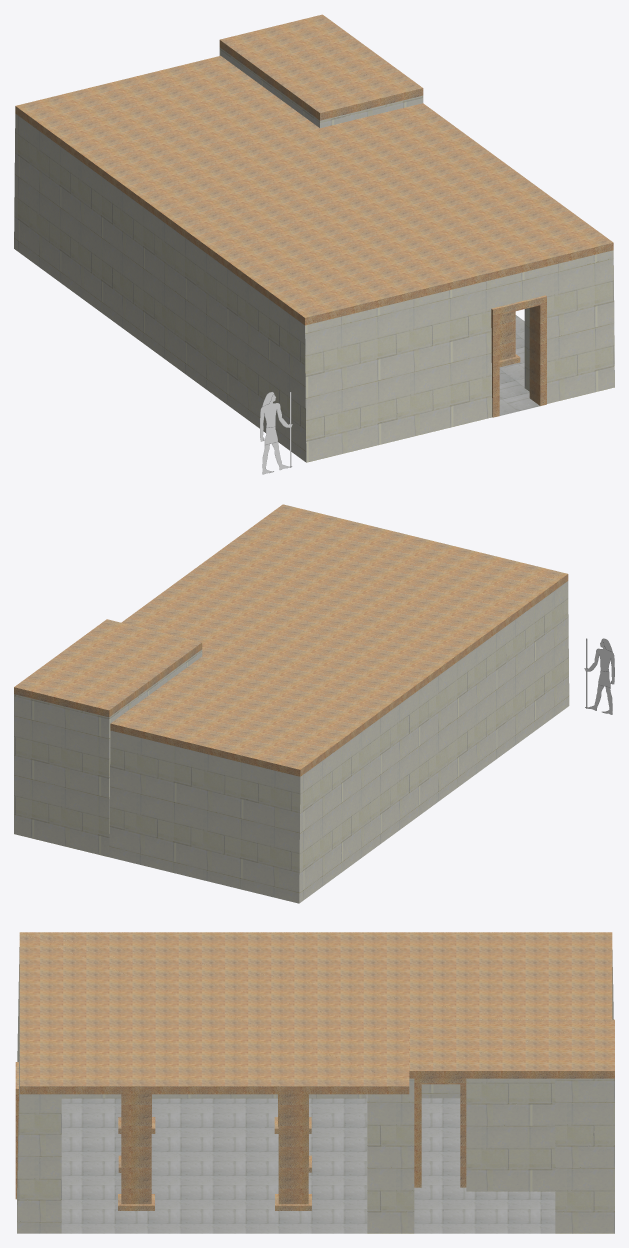
The model's file is Hetep.obj.
3 views of the same model, one above another, from view 1: azimuth 30°, elevation 25°; view 2: azimuth 150°, elevation 25°; view 3: azimuth 270°, elevation 25° (orthographic). The views are drawn at different scales.
Visible parts, largest first — view 1: Mesh1 Model, Mesh2 Model; view 2: Mesh1 Model, Mesh2 Model; view 3: Mesh1 Model.
Part boxes in pixels (box(x1,y1,x2,y2)): Mesh1 Model: box(14, 14, 614, 462); Mesh2 Model: box(260, 392, 292, 474); Mesh1 Model: box(14, 504, 569, 903); Mesh2 Model: box(584, 638, 614, 714); Mesh1 Model: box(15, 932, 614, 1233).
Bounding box in the file's own units: 7.39 × 3.15 × 10.55.
